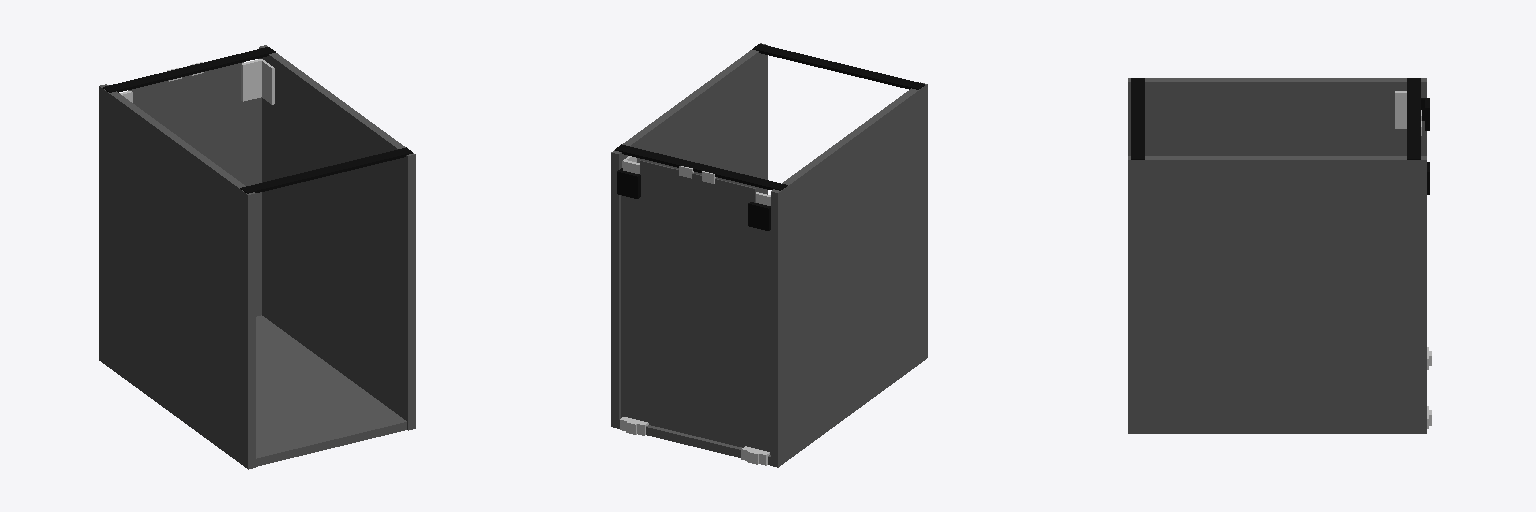
Rendered from IKEA.ART.40246118.obj.
3 views of the same model, side by side, from view 1: azimuth 30°, elevation 25°; view 2: azimuth 150°, elevation 25°; view 3: azimuth 270°, elevation 25° (orthographic).
Visible parts, largest first — view 1: model_model.041; view 2: model_model.041; view 3: model_model.041.
Part boxes in pixels (x1,y1,x2,y2): model_model.041: (99,45,415,469); model_model.041: (611,43,927,467); model_model.041: (1128,78,1431,433).
Bounding box in the file's own units: 0.4 × 0.63 × 0.63.